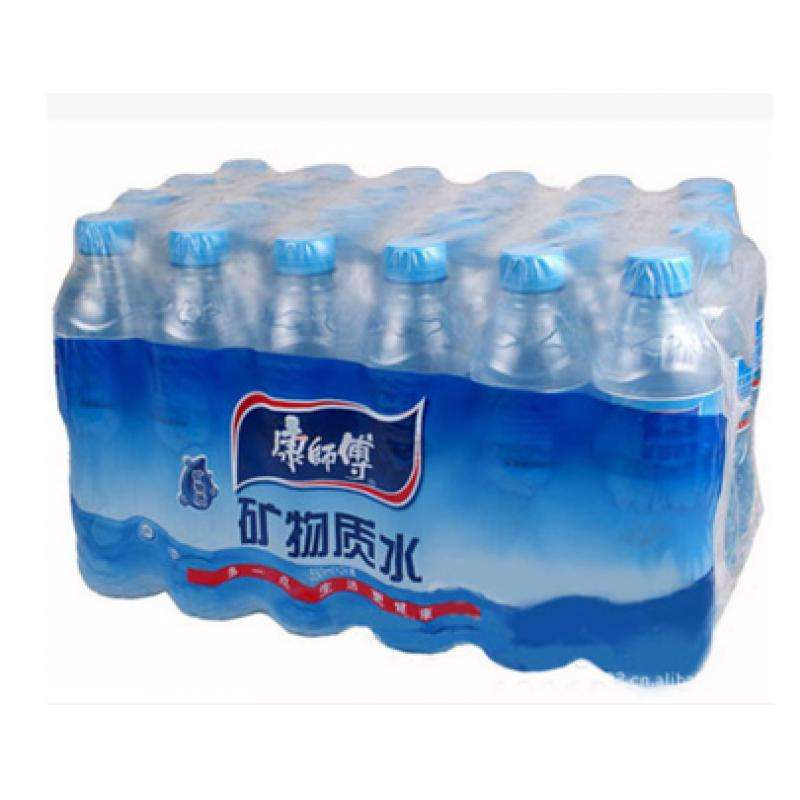amwater: (59, 143, 768, 713)
